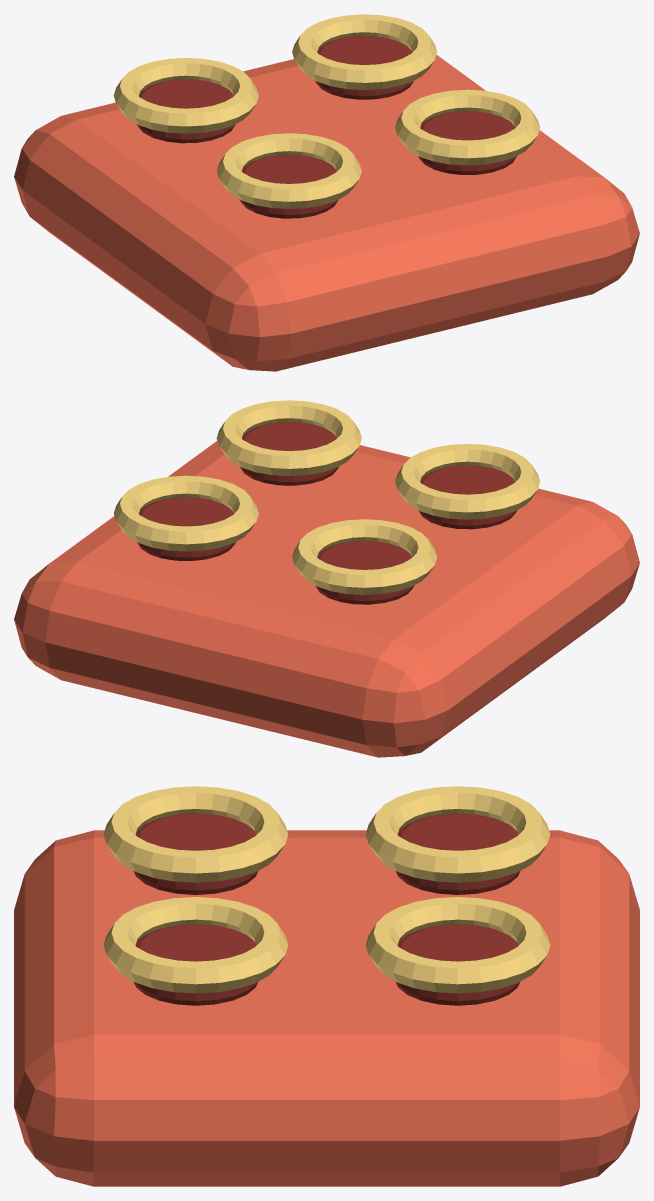
The model's file is PR3D_Container_1x1.fbx.
The picture shows the model from 3 angles, top to bottom: view 1: azimuth 30°, elevation 25°; view 2: azimuth 150°, elevation 25°; view 3: azimuth 270°, elevation 25°; orthographic projection. The views are drawn at different scales.
Parts seen in each view (by area): view 1: Visual_1x1_Base_00, Visual_1x1_ToppingRim_00_01, Visual_1x1_ToppingRim_00_00, Visual_1x1_ToppingRim_00_02, Visual_1x1_ToppingRim_00_03, Visual_1x1_Topping_00_01, Visual_1x1_Topping_00_00, Visual_1x1_Topping_00_03, Visual_1x1_Topping_00_02; view 2: Visual_1x1_Base_00, Visual_1x1_ToppingRim_00_00, Visual_1x1_ToppingRim_00_01, Visual_1x1_ToppingRim_00_03, Visual_1x1_ToppingRim_00_02, Visual_1x1_Topping_00_00, Visual_1x1_Topping_00_01, Visual_1x1_Topping_00_02, Visual_1x1_Topping_00_03; view 3: Visual_1x1_Base_00, Visual_1x1_ToppingRim_00_00, Visual_1x1_ToppingRim_00_01, Visual_1x1_ToppingRim_00_02, Visual_1x1_ToppingRim_00_03, Visual_1x1_Topping_00_02, Visual_1x1_Topping_00_03, Visual_1x1_Topping_00_00, Visual_1x1_Topping_00_01.
Part boxes in pixels (box(x1,y1,x2,y2)): Visual_1x1_Base_00: box(14, 55, 639, 371); Visual_1x1_ToppingRim_00_01: box(113, 58, 258, 133); Visual_1x1_ToppingRim_00_00: box(216, 133, 361, 208); Visual_1x1_ToppingRim_00_02: box(395, 89, 540, 165); Visual_1x1_ToppingRim_00_03: box(292, 14, 437, 90); Visual_1x1_Topping_00_01: box(137, 79, 235, 143); Visual_1x1_Topping_00_00: box(239, 154, 338, 218); Visual_1x1_Topping_00_03: box(315, 36, 413, 99); Visual_1x1_Topping_00_02: box(418, 111, 516, 174); Visual_1x1_Base_00: box(14, 441, 639, 757); Visual_1x1_ToppingRim_00_00: box(395, 444, 540, 519); Visual_1x1_ToppingRim_00_01: box(292, 519, 437, 594); Visual_1x1_ToppingRim_00_03: box(113, 475, 258, 551); Visual_1x1_ToppingRim_00_02: box(216, 400, 361, 476); Visual_1x1_Topping_00_00: box(418, 465, 516, 529); Visual_1x1_Topping_00_01: box(315, 540, 414, 604); Visual_1x1_Topping_00_02: box(240, 422, 338, 485); Visual_1x1_Topping_00_03: box(137, 497, 235, 560); Visual_1x1_Base_00: box(14, 830, 639, 1186); Visual_1x1_ToppingRim_00_00: box(103, 786, 288, 882); Visual_1x1_ToppingRim_00_01: box(365, 786, 550, 882); Visual_1x1_ToppingRim_00_02: box(103, 897, 288, 993); Visual_1x1_ToppingRim_00_03: box(365, 897, 550, 993); Visual_1x1_Topping_00_02: box(133, 924, 258, 1005); Visual_1x1_Topping_00_03: box(395, 924, 520, 1005); Visual_1x1_Topping_00_00: box(133, 813, 258, 894); Visual_1x1_Topping_00_01: box(395, 813, 520, 894).
Bounding box in the file's own units: 0.86 × 0.3091 × 0.86.
